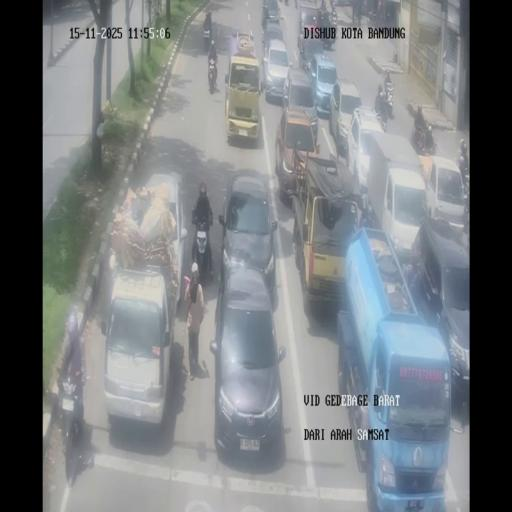3: (338, 231, 451, 507), (293, 153, 361, 315), (362, 135, 426, 258), (224, 46, 262, 146)
car: (102, 268, 174, 432), (219, 170, 278, 302), (140, 172, 190, 307), (423, 154, 466, 232), (281, 64, 317, 136), (328, 77, 362, 153), (261, 35, 291, 102), (296, 11, 324, 66), (262, 0, 278, 23)
truck: (56, 363, 92, 485), (190, 218, 213, 286), (411, 118, 429, 155), (381, 80, 395, 119), (207, 55, 218, 94), (318, 6, 330, 34), (202, 23, 212, 50), (368, 1, 379, 22), (353, 4, 362, 24), (330, 5, 338, 27), (261, 23, 266, 55), (297, 29, 302, 50), (320, 0, 326, 11), (294, 0, 298, 9), (284, 0, 289, 7)
